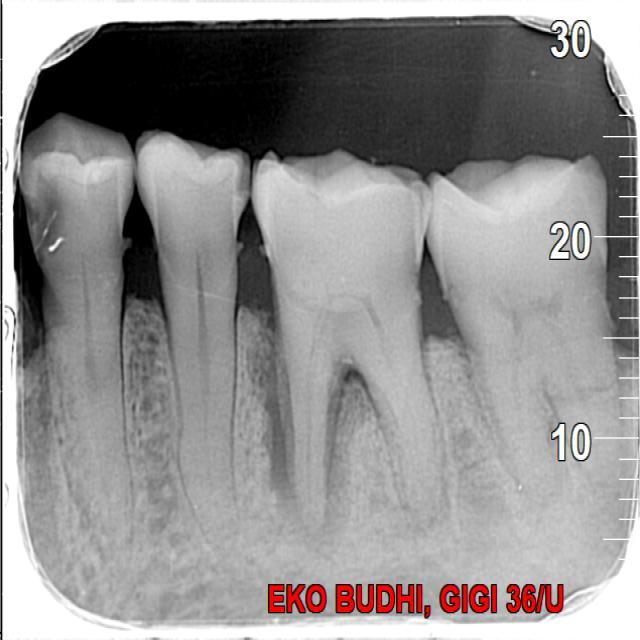individual-tooth-8tto: (248, 148, 442, 534), (419, 151, 626, 511), (20, 108, 143, 536), (131, 128, 251, 545)
